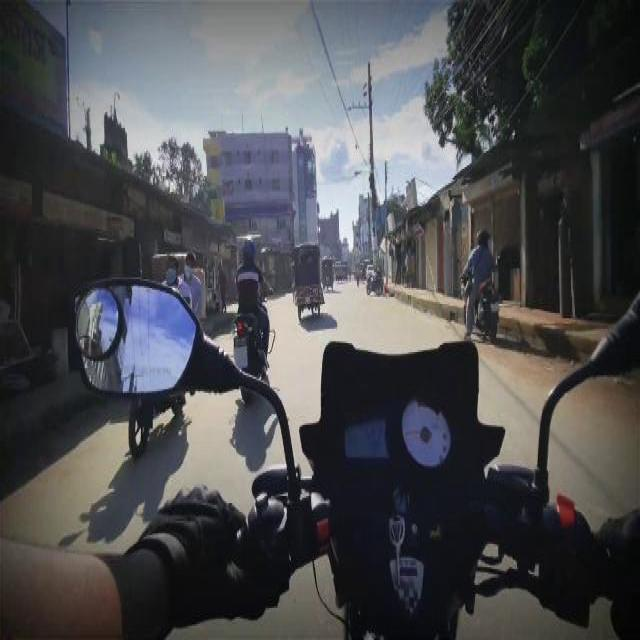bike: (70, 279, 640, 633), (130, 256, 201, 457), (230, 239, 276, 408), (459, 233, 503, 341), (366, 269, 382, 295)
vehicle: (294, 244, 325, 320), (322, 259, 334, 291), (336, 262, 342, 284)
